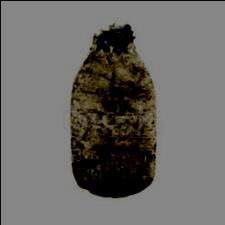Plastic: (71, 14, 159, 201)
